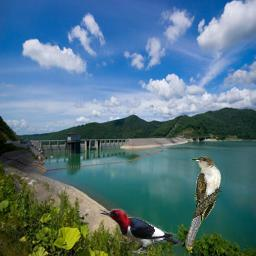Cuckoo: (185, 156, 222, 248)
Woodpecker: (96, 207, 184, 256)
